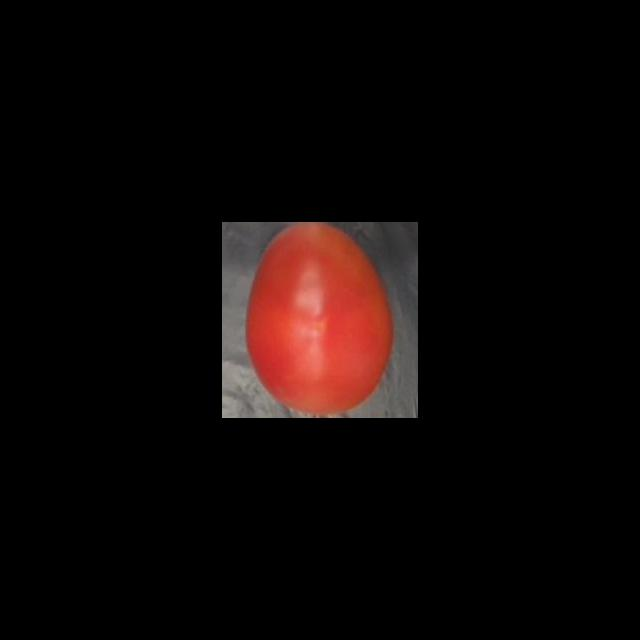tomato: (241, 223, 400, 418)
